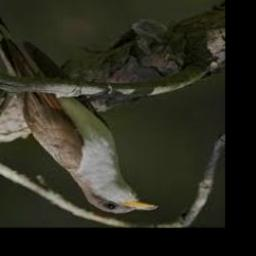Cuckoo: (0, 0, 159, 214)
